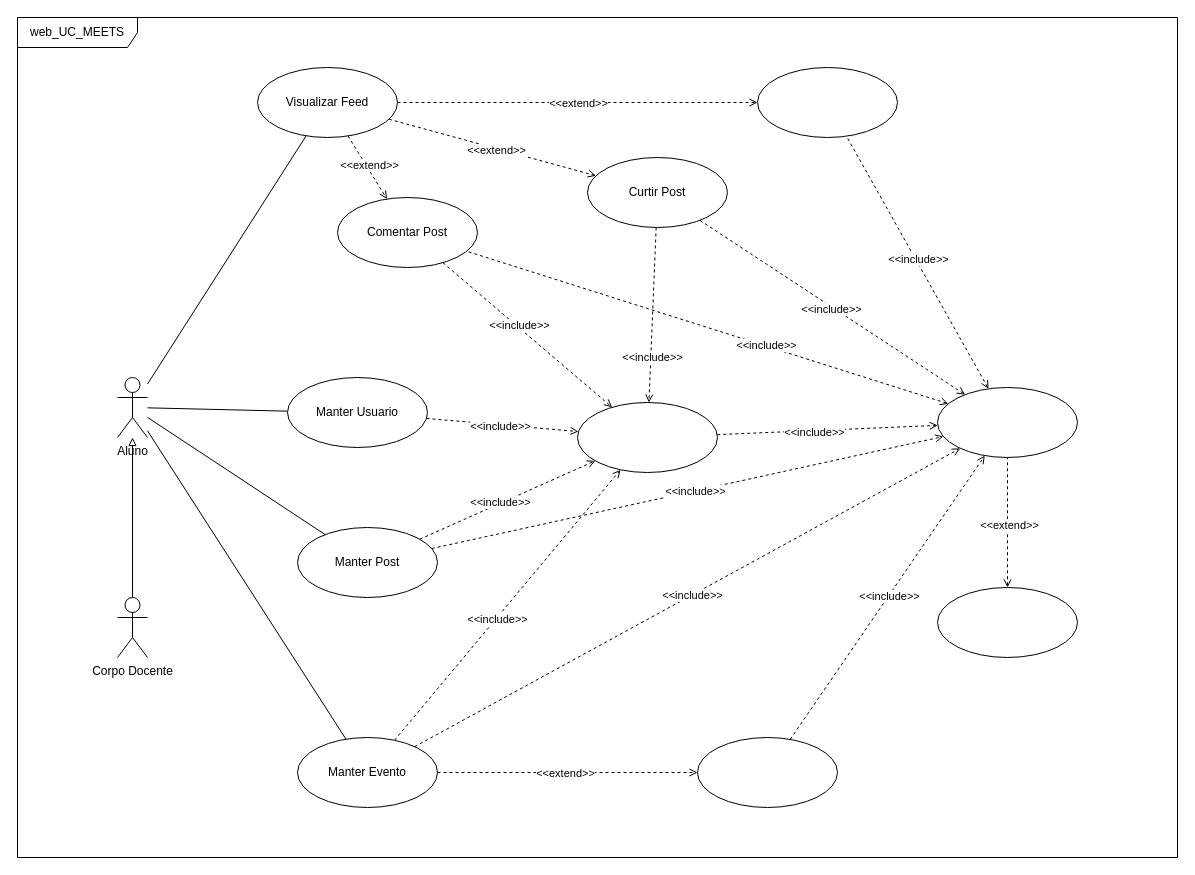
This 1195x875 diagram has some shape labels left out. The shapes that lost their labels are listed below. From the top down, each one's centre as x and y in pixels, then its label:
At pixel 827 102: "Denunciar Post".
At pixel 647 437: "Fazer Login".
At pixel 1007 422: "Manter Historico de Atividades (log)".
At pixel 1007 622: "Converter Atividade em Pontuacao".
At pixel 767 772: "Confirmar Presenca".
